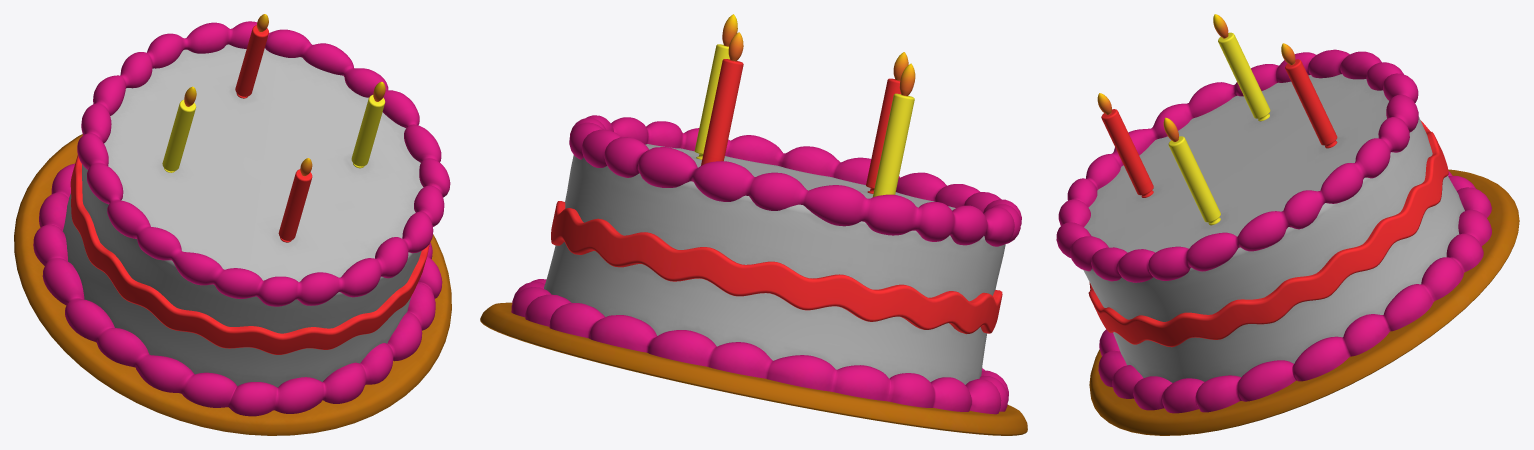
Rendered from birthday_cake.glb.
The picture shows the model from 3 angles, left to right: view 1: azimuth 30°, elevation 25°; view 2: azimuth 150°, elevation 25°; view 3: azimuth 270°, elevation 25°; orthographic projection. The views are drawn at different scales.
Visible parts, largest first — view 1: Object_5; view 2: Object_5; view 3: Object_5.
Part boxes in pixels (x1,y1,x2,y2): Object_5: (14, 14, 451, 435); Object_5: (480, 14, 1027, 435); Object_5: (1056, 14, 1519, 435).
Size of the model in its own units: 0.512 by 0.4328 by 0.5063.
Materials: 1 (1 with a texture image).
